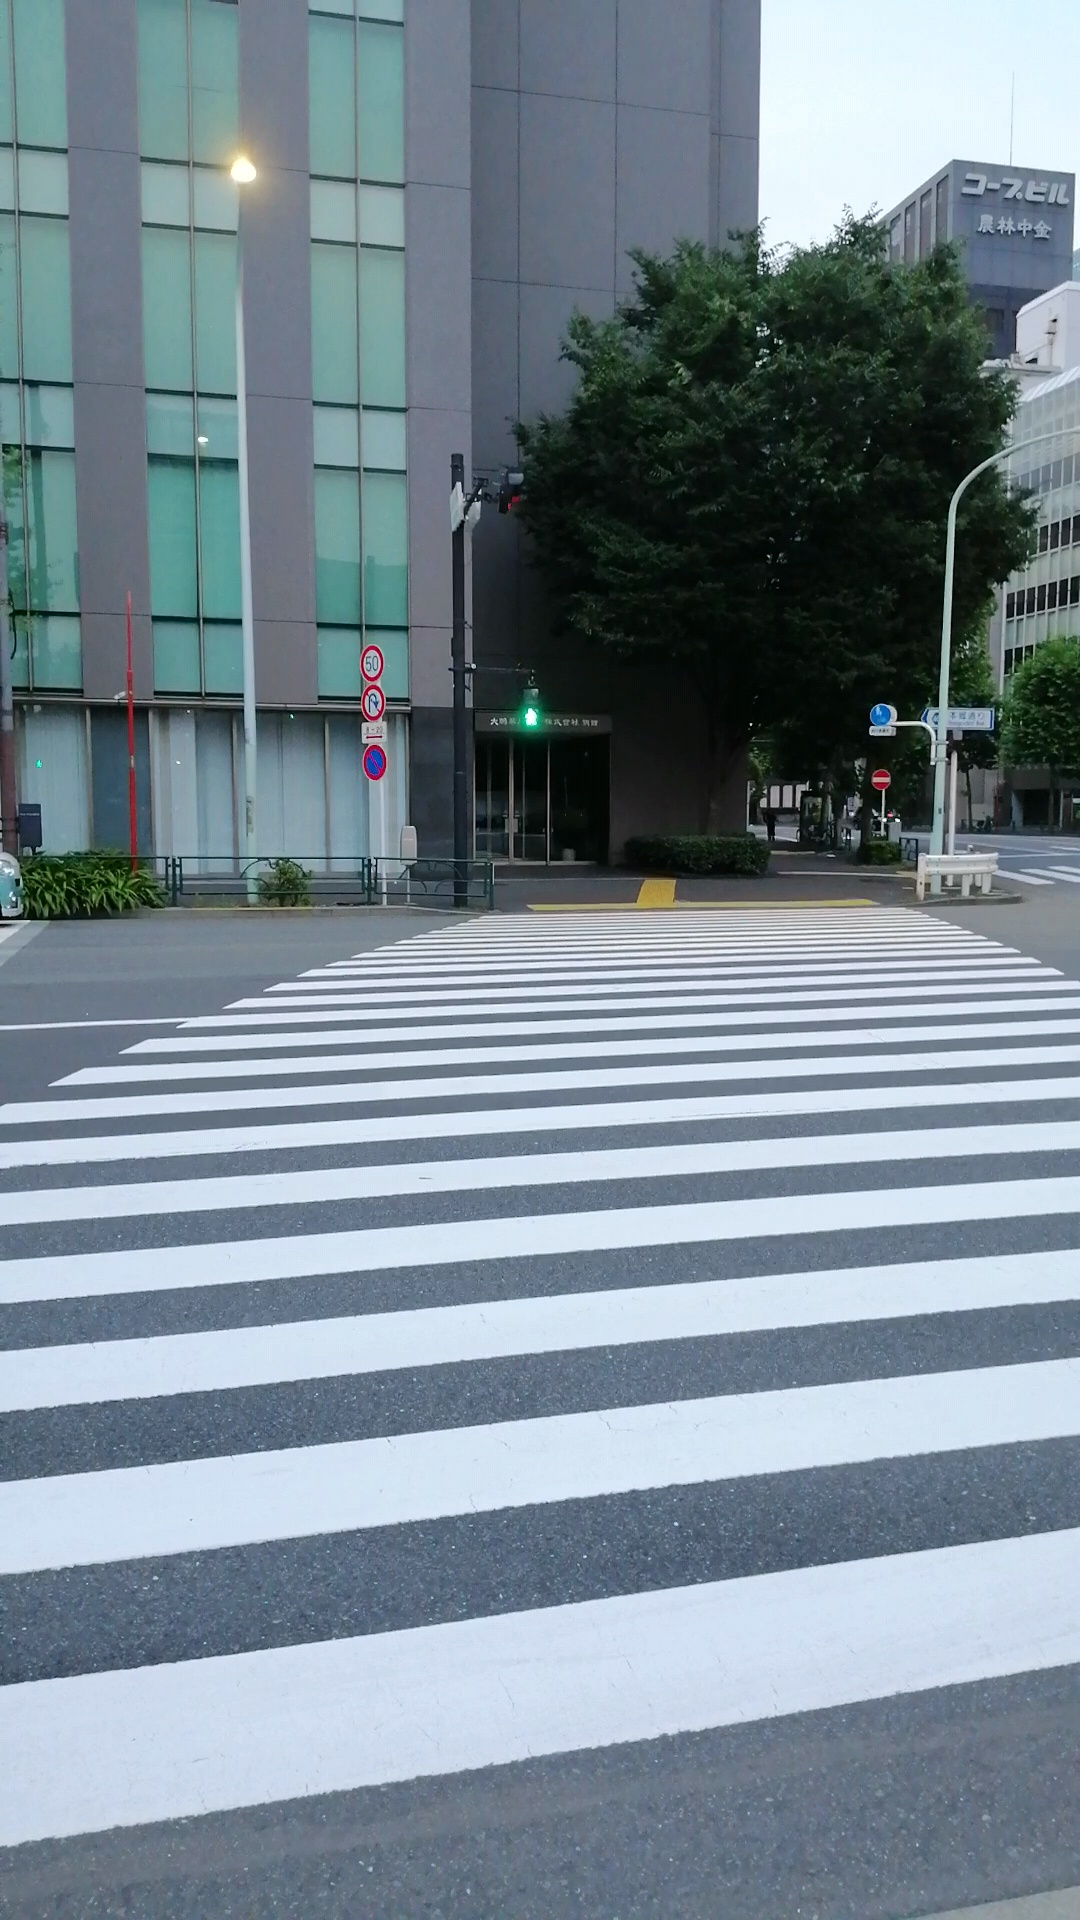green: (518, 684, 543, 731)
